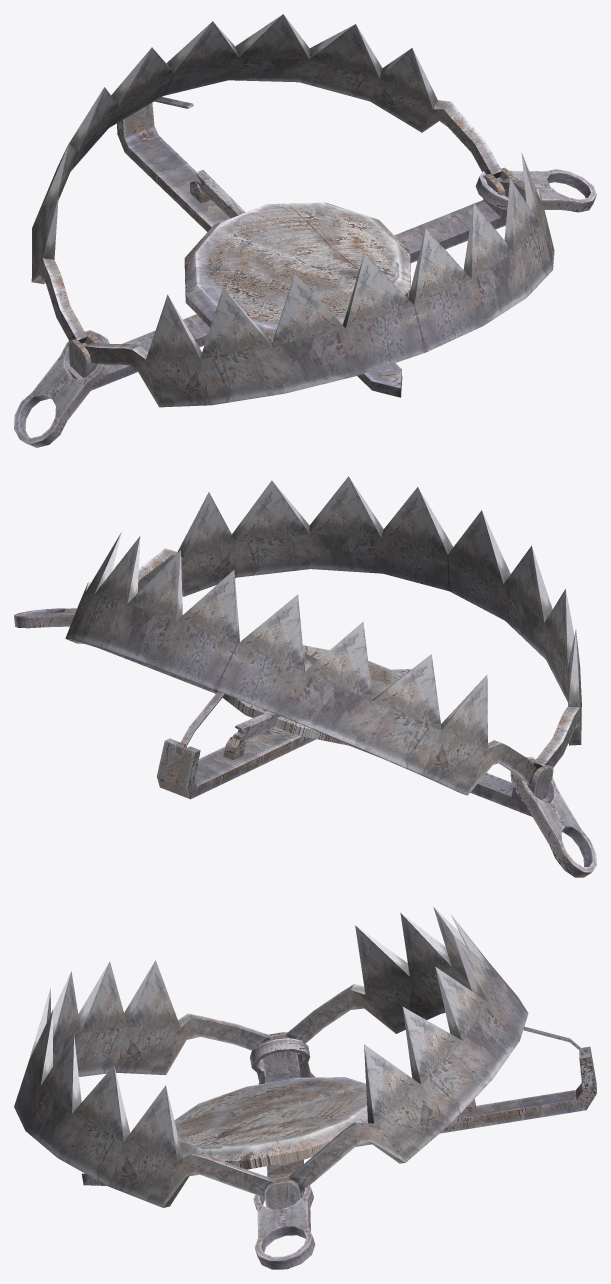
3 renders of one model, top to bottom at view 1: azimuth 30°, elevation 25°; view 2: azimuth 150°, elevation 25°; view 3: azimuth 270°, elevation 25°, orthographic.
Visible parts, largest first — view 1: Trap_LeftSide, Trap_RightSide, Trap_Center, Trap_Cross, Trap_1, Trap_4; view 2: Trap_RightSide, Trap_LeftSide, Trap_Cross, Trap_1, Trap_Center, Trap_4, Trap_3; view 3: Trap_LeftSide, Trap_RightSide, Trap_Center, Trap_Cross, Trap_1.
Part boxes in pixels (x1,y1,x2,y2): Trap_LeftSide: (84, 152, 554, 407); Trap_RightSide: (31, 14, 501, 343); Trap_Center: (184, 202, 410, 342); Trap_Cross: (68, 103, 515, 397); Trap_1: (14, 169, 596, 447); Trap_4: (196, 170, 245, 218); Trap_RightSide: (65, 532, 537, 795); Trap_LeftSide: (137, 476, 581, 768); Trap_Cross: (100, 648, 553, 816); Trap_1: (14, 608, 596, 877); Trap_Center: (214, 645, 403, 746); Trap_4: (233, 711, 278, 740); Trap_3: (181, 691, 224, 751); Trap_LeftSide: (14, 960, 276, 1207); Trap_RightSide: (285, 907, 528, 1192); Trap_Center: (174, 1077, 367, 1169); Trap_Cross: (81, 1032, 596, 1209); Trap_1: (250, 1038, 315, 1269).
Size of the model in its own units: 142 by 71.19 by 124.
Materials: 1 (1 with a texture image).
